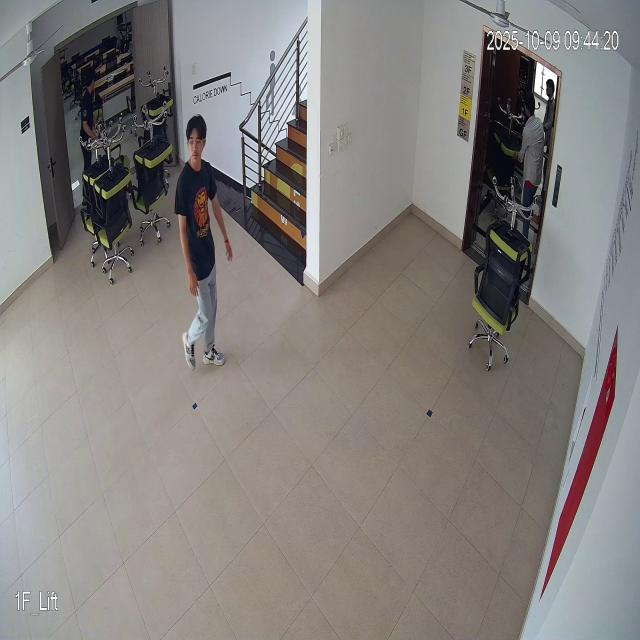face: (185, 104, 209, 172)
